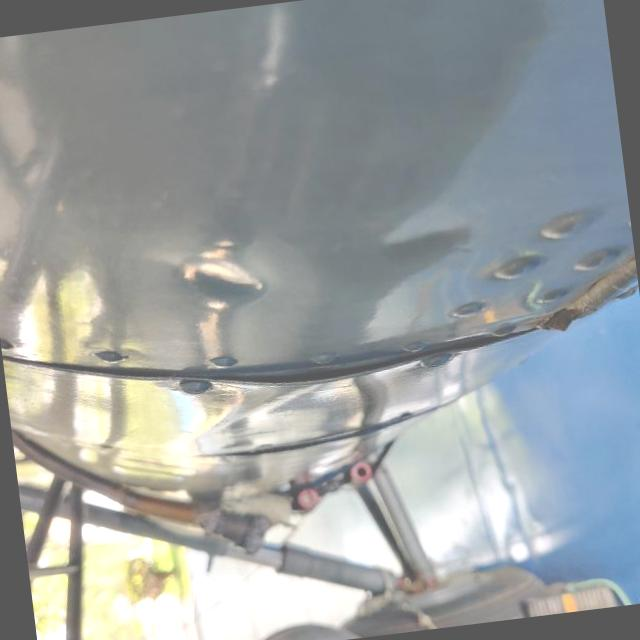dent: (306, 165, 419, 288), (353, 362, 460, 488)
